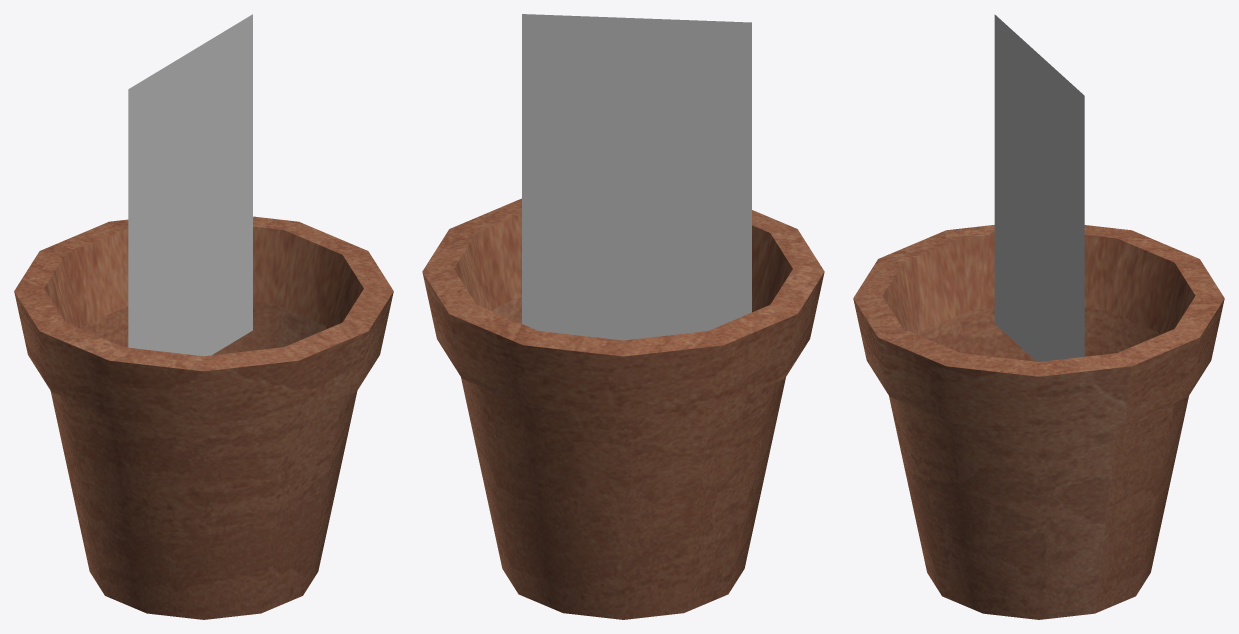
Rendered from flower.FBX.
The picture shows the model from 3 angles, left to right: view 1: azimuth 30°, elevation 25°; view 2: azimuth 150°, elevation 25°; view 3: azimuth 270°, elevation 25°; orthographic projection. The views are drawn at different scales.
Visible parts, largest first — view 1: Cylinder001; view 2: Cylinder001; view 3: Cylinder001.
Boxes of the visible parts, x1,y1,x2,y2 form: Cylinder001: (14,14,393,619); Cylinder001: (422,14,824,619); Cylinder001: (853,14,1224,619).
Bounding box in the file's own units: 27.74 × 42.15 × 27.74.
